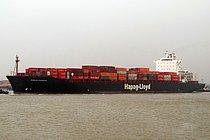Ship: (4, 49, 207, 98)
